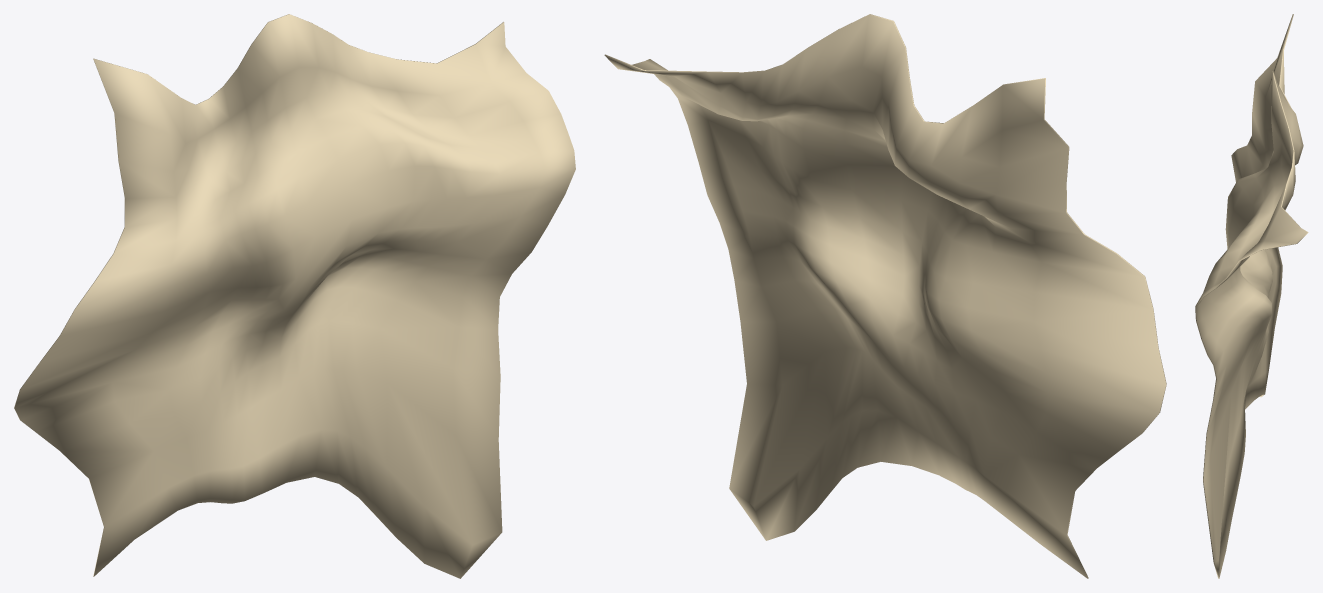
The model's file is TissueBox.fbx.
The picture shows the model from 3 angles, left to right: view 1: azimuth 30°, elevation 25°; view 2: azimuth 150°, elevation 25°; view 3: azimuth 270°, elevation 25°; orthographic projection. The views are drawn at different scales.
Visible parts, largest first — view 1: Tissue; view 2: Tissue; view 3: Tissue.
Boxes of the visible parts, bbox=[...] form: Tissue: bbox=[14, 14, 575, 578]; Tissue: bbox=[604, 14, 1166, 578]; Tissue: bbox=[1195, 14, 1308, 578].
Bounding box in the file's own units: 15.32 × 16.07 × 3.69.
